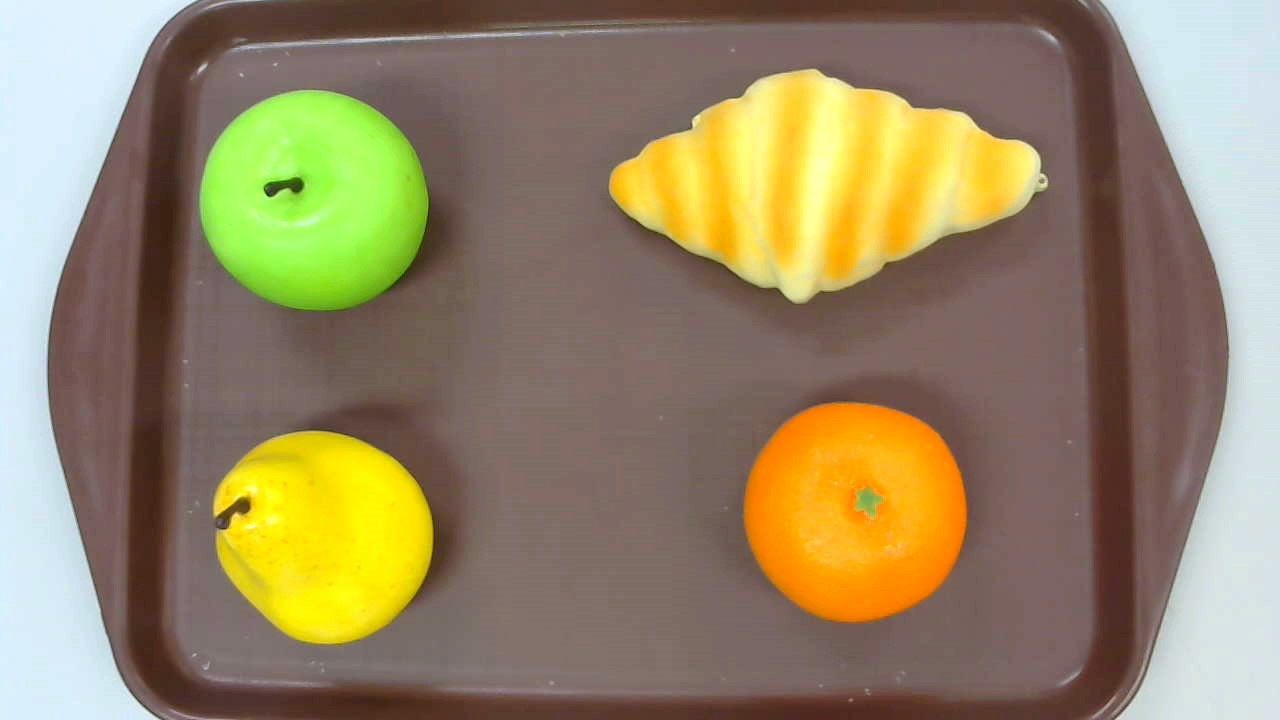croissant: (609, 68, 1050, 307)
green apple: (198, 89, 428, 311)
orange: (742, 402, 967, 622)
yellow pear: (213, 430, 433, 646)
